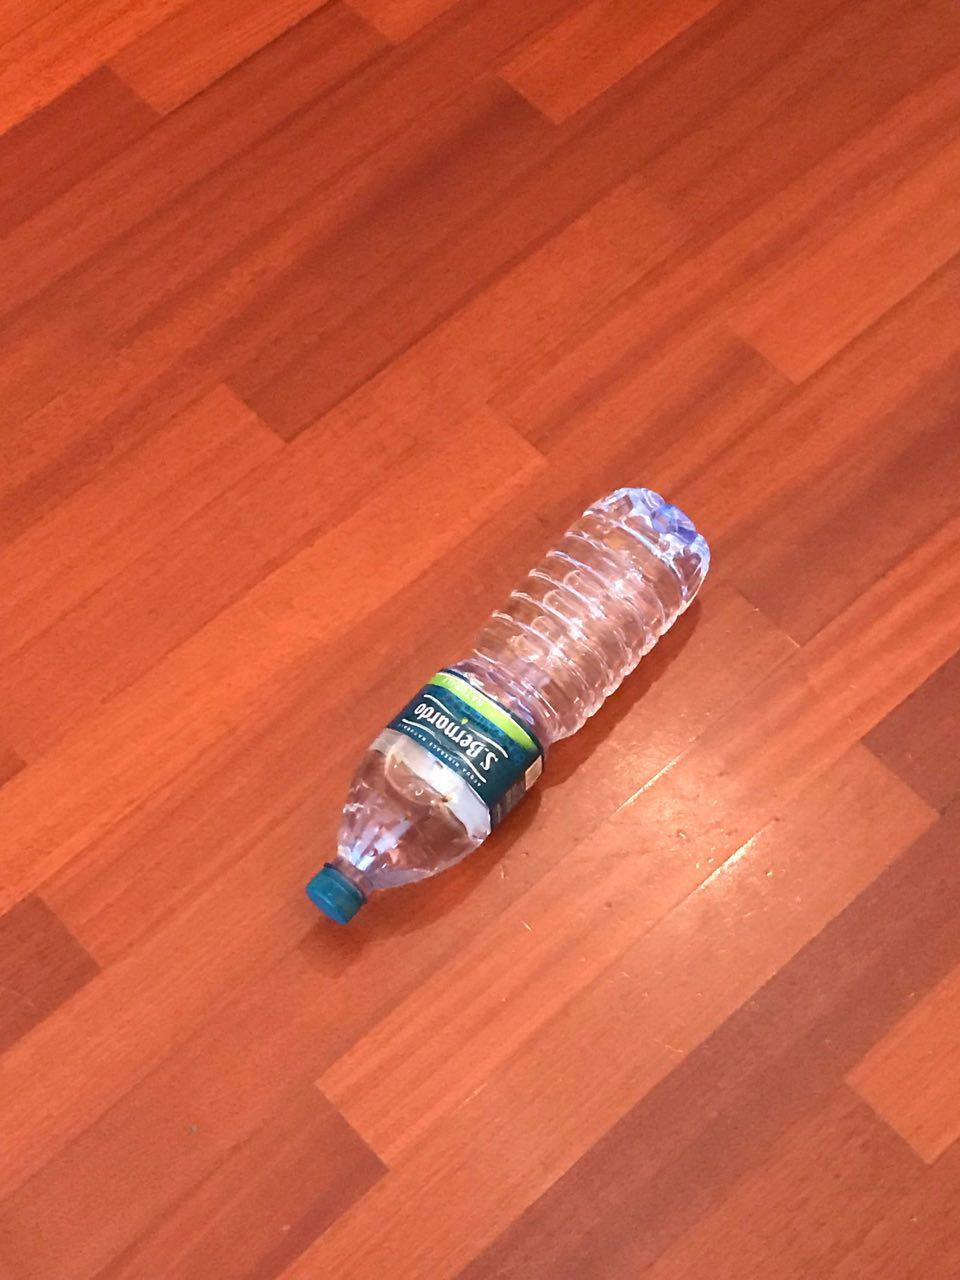san_bernardo: (306, 486, 712, 927)
